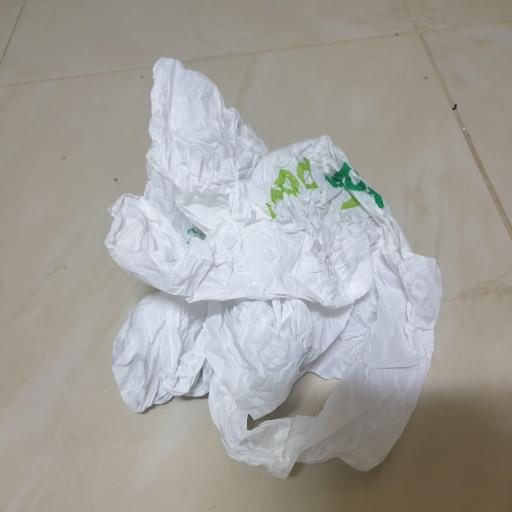plastic bag: (92, 51, 452, 489)
